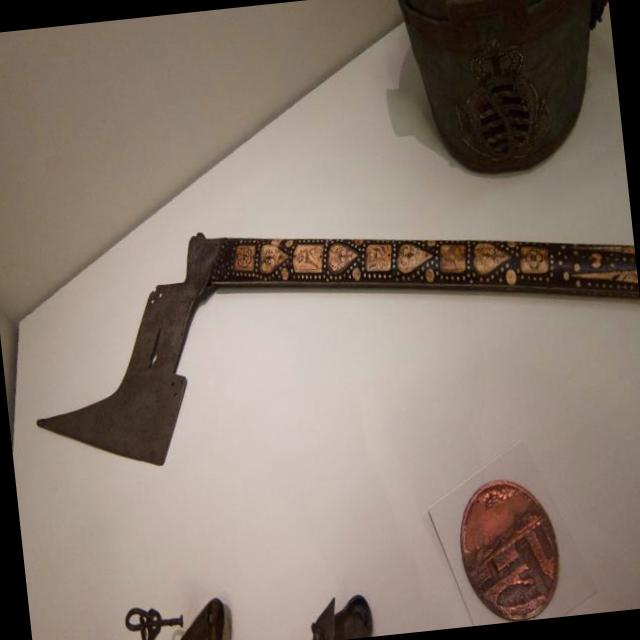Axe: (37, 233, 639, 464)
